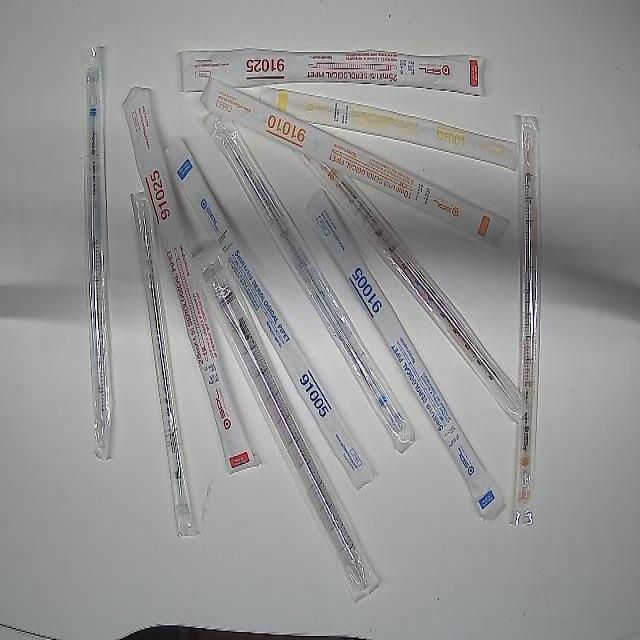Serelogical Pipet 1 mL: (258, 85, 520, 175)
Serelogical Pipet 10 mL: (293, 134, 532, 422), (200, 78, 512, 248), (510, 109, 544, 532)
Serelogical Pipet 2 mL: (127, 182, 204, 542)
Serelogical Pipet 25 mL: (121, 82, 263, 476), (174, 45, 489, 98)
Serelogical Pipet 5 mL: (162, 134, 379, 493), (203, 107, 417, 456), (303, 183, 509, 528), (83, 43, 120, 469)
Serelogical Pipet 50 mL: (194, 241, 384, 608)
